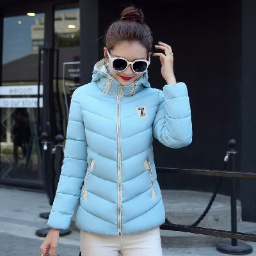face: (97, 6, 159, 88)
